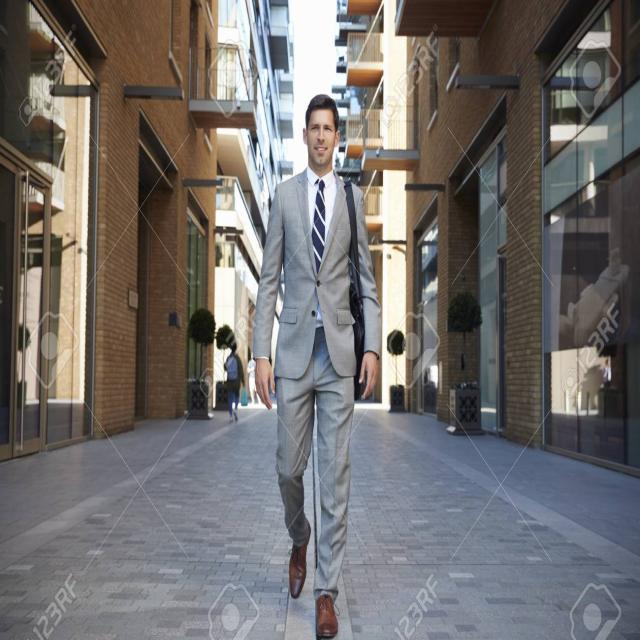Person: (251, 94, 380, 640)
